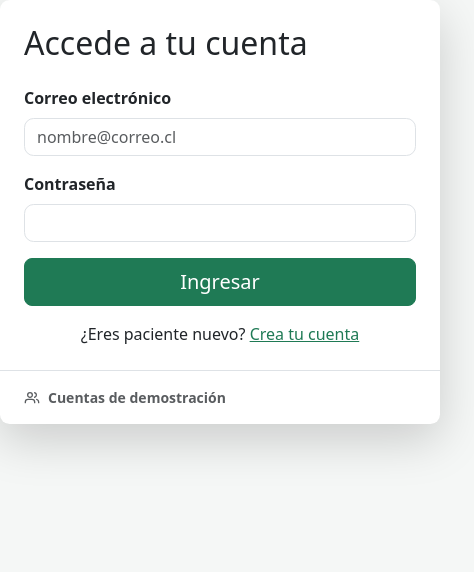
it: components/FormLogin › muestra el error del servicio cuando las credenciales son incorrectas
Type "paciente@nutrivida.cl" into the field labelled "Correo electrónico" at (220, 137), box [24, 118, 416, 156]
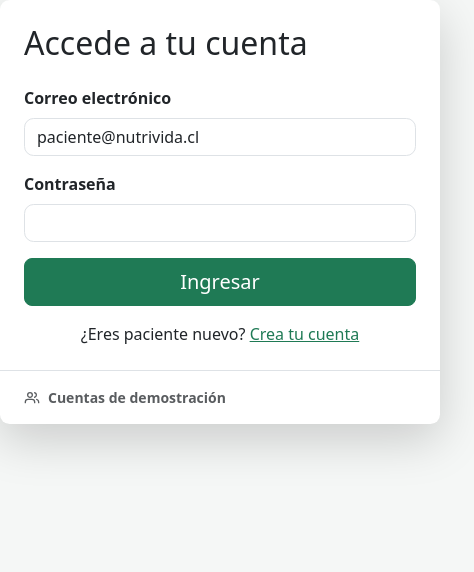
Type "Equivocada1" into the password field labelled "Contraseña" at (220, 223), box [24, 204, 416, 242]
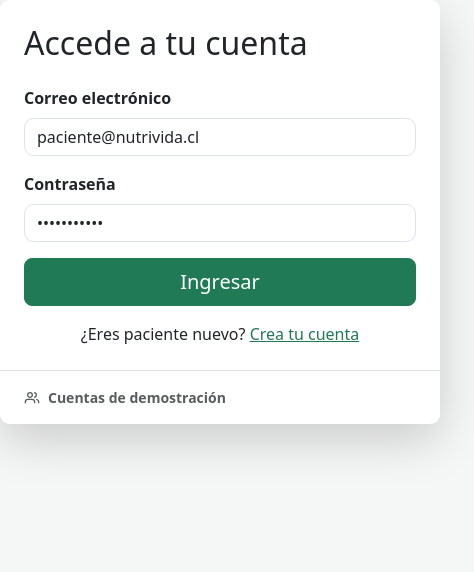
Click the button "Ingresar" at (220, 282), box [24, 258, 416, 306]
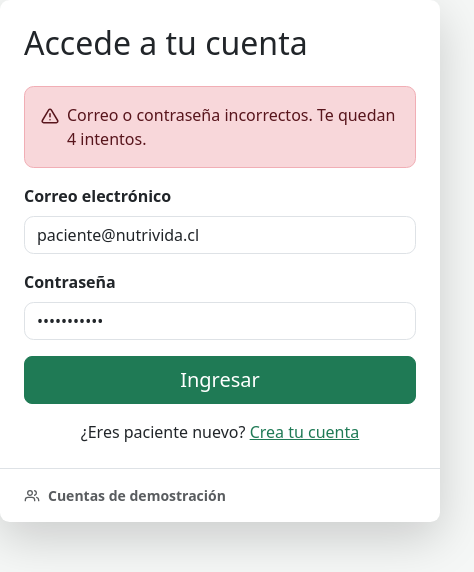
Expected: the message shows "Correo o contraseña incorrectos", [67, 104, 395, 150]
